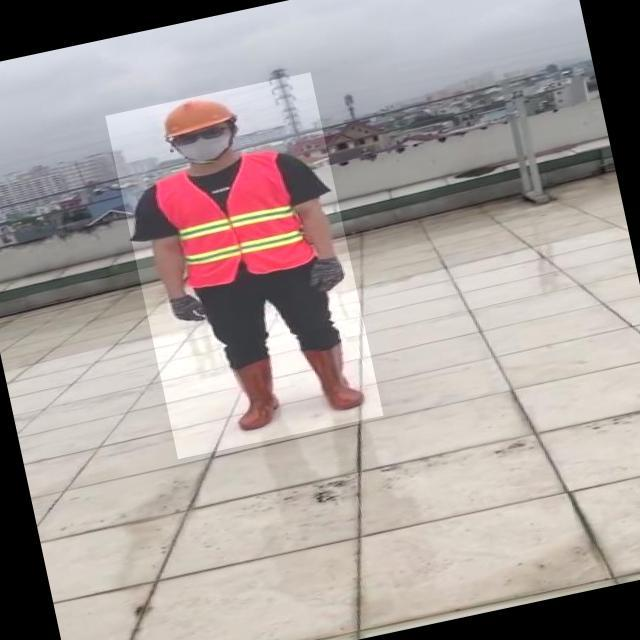Gloves: (167, 292, 213, 327), (308, 257, 348, 294)
Helmet: (154, 91, 236, 140)
Human: (105, 72, 383, 459)
Safety Boot: (297, 337, 372, 417), (223, 356, 286, 432)
Safety Vest: (151, 148, 314, 294)
